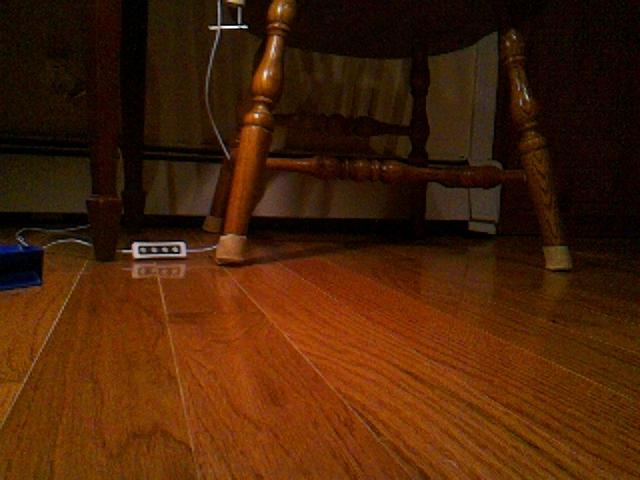blue: (1, 241, 45, 292)
